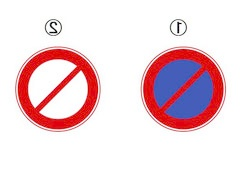Prohibition_sign: (138, 45, 237, 137), (11, 41, 100, 136)
